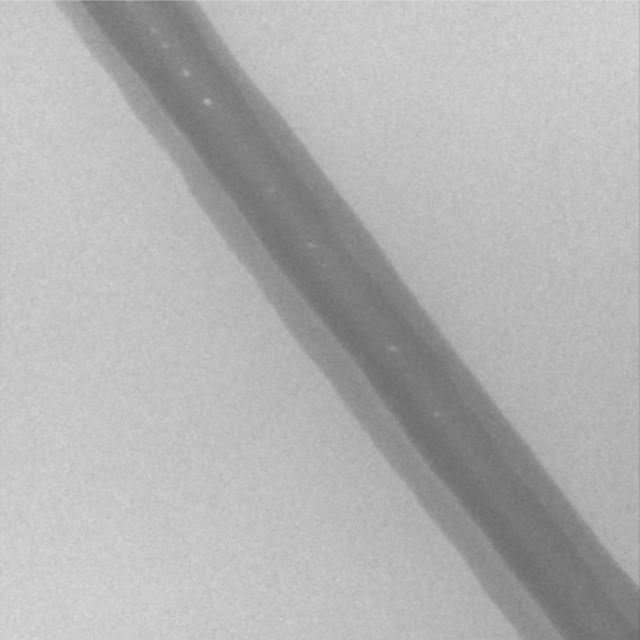air hole: (388, 343, 397, 353), (203, 96, 212, 106), (182, 67, 190, 78)
